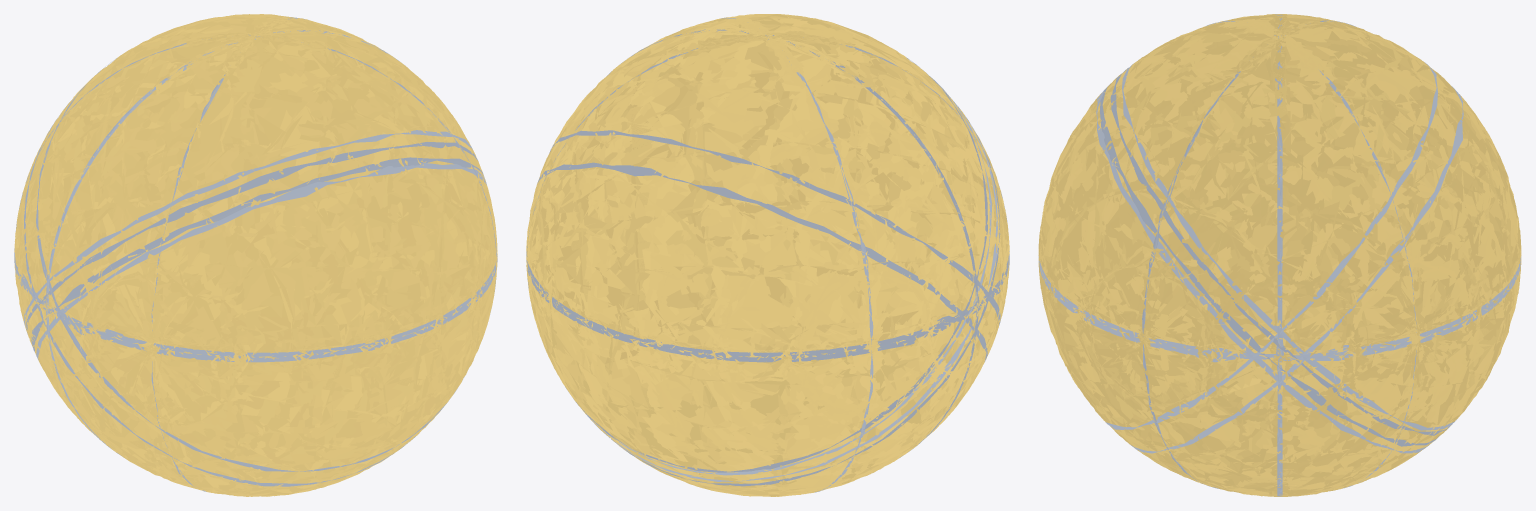
3 views of the same model, side by side, from view 1: azimuth 30°, elevation 25°; view 2: azimuth 150°, elevation 25°; view 3: azimuth 270°, elevation 25° (orthographic).
Parts seen in each view (by area): view 1: anodes, structure; view 2: anodes, structure; view 3: anodes, structure.
Boxes of the visible parts, x1,y1,x2,y2 form: anodes: (14,14,497,496); structure: (14,17,497,491); anodes: (526,14,1009,496); structure: (526,17,1009,492); anodes: (1038,14,1521,496); structure: (1038,14,1521,496).
Size of the model in its own units: 2 by 2 by 2.
